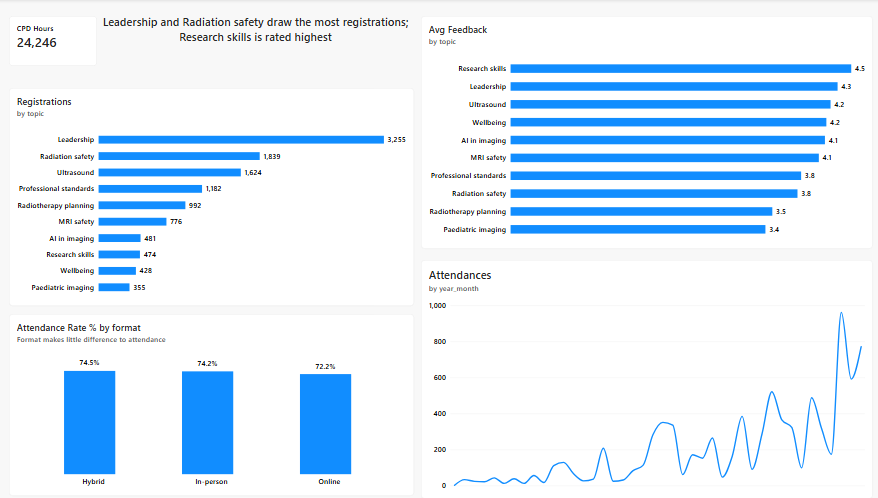

The dashboard page shown, as its layout file describes it:
{"tool":"powerbi","page":{"name":"CPD engagement","canvas":[1920,1080],"ordinal":2},"visuals":[{"type":"barChart","fields":{"Category":["dim_event.topic"],"Y":["-Measures.Registrations"]},"box":[21.6,192.2,874.8,470.9],"z":0},{"type":"barChart","fields":{"Category":["dim_event.topic"],"Y":["-Measures.Avg Feedback"]},"box":[911.5,36.7,976.3,503.3],"z":1000},{"type":"lineClusteredColumnComboChart","fields":{"Category":["dim_event.format"],"Y":["-Measures.Attendance Rate %"]},"box":[21.6,680.4,874.8,393.1],"z":2000},{"type":"cardVisual","fields":{"Data":["-Measures.CPD Hours Label"]},"box":[21.6,36.7,190.1,108],"z":3000},{"type":"lineChart","fields":{"Category":["dim_date.year_month"],"Y":["-Measures.Attendances"]},"box":[911.5,563.8,976.3,516.2],"z":4000},{"type":"textbox","title":"Leadership and Radiation safety draw the most registrations; Research skills is rated highest","box":[212,32,685,150],"z":4001}]}

Visuals, with their boxes in screenshot pixels (x1, y1, x2, y2), scaled from the page's 1920x1080 canvas onto the 878x498 screenshot:
barChart - dim_event.topic x -Measures.Registrations: BBox(10, 89, 410, 306)
barChart - dim_event.topic x -Measures.Avg Feedback: BBox(417, 17, 863, 249)
lineClusteredColumnComboChart - dim_event.format x -Measures.Attendance Rate %: BBox(10, 314, 410, 495)
cardVisual - -Measures.CPD Hours Label: BBox(10, 17, 97, 67)
lineChart - dim_date.year_month x -Measures.Attendances: BBox(417, 260, 863, 497)
"Leadership and Radiation safety draw the most registrations; Research skills is rated highest" textbox: BBox(97, 15, 410, 84)
